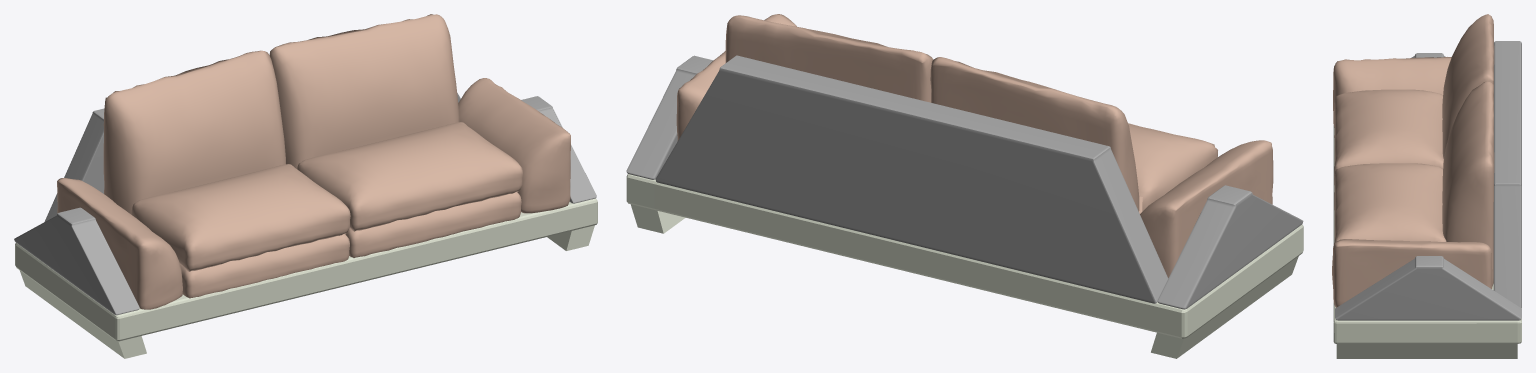
File: Two sitted sofa.fbx
3 views of the same model, side by side, from view 1: azimuth 30°, elevation 25°; view 2: azimuth 150°, elevation 25°; view 3: azimuth 270°, elevation 25° (orthographic). The views are drawn at different scales.
Parts seen in each view (by area): view 1: polySurface74; view 2: polySurface74; view 3: polySurface74.
Part boxes in pixels (box(x1,y1,x2,y2)): polySurface74: box(14, 14, 597, 358); polySurface74: box(626, 14, 1303, 358); polySurface74: box(1332, 14, 1521, 358).
Size of the model in its own units: 276 by 106 by 104.
